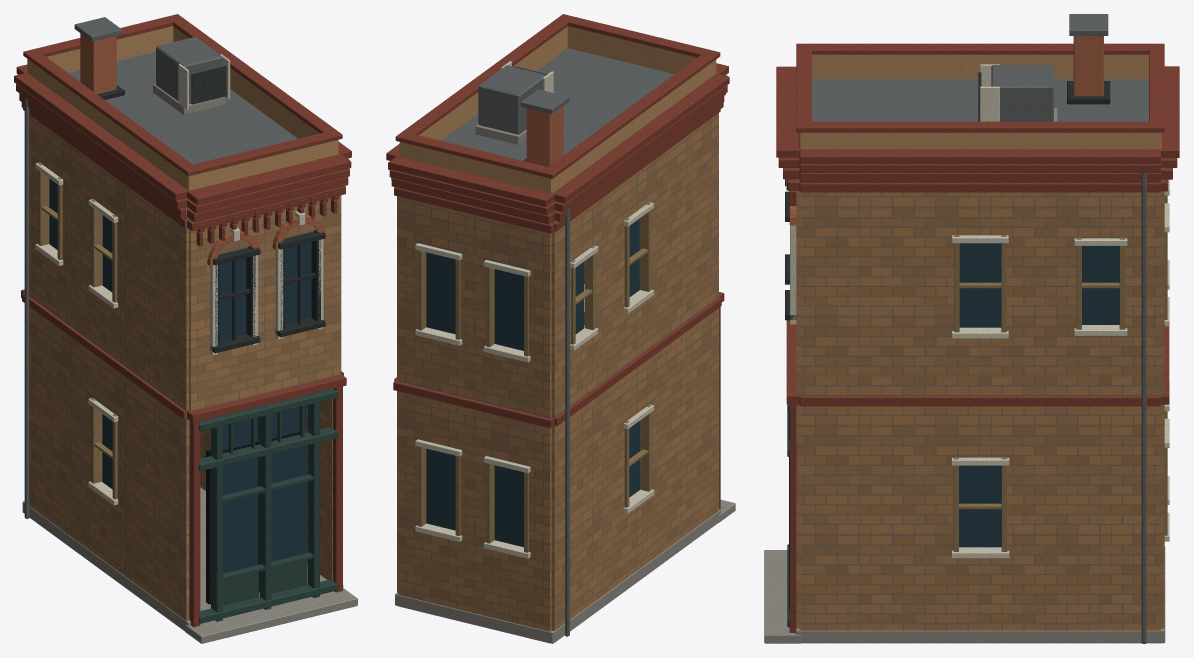
Rendered from BUSS1_lod1.glb.
3 views of the same model, side by side, from view 1: azimuth 30°, elevation 25°; view 2: azimuth 150°, elevation 25°; view 3: azimuth 270°, elevation 25° (orthographic). The views are drawn at different scales.
Parts seen in each view (by area): view 1: BUSS1_LOD1; view 2: BUSS1_LOD1; view 3: BUSS1_LOD1.
Part boxes in pixels (x1,y1,x2,y2): BUSS1_LOD1: (14, 14, 357, 643); BUSS1_LOD1: (386, 14, 735, 643); BUSS1_LOD1: (764, 14, 1179, 643).
Size of the model in its own units: 3.78 by 10.25 by 6.9.
Materials: 12 (10 with a texture image).
